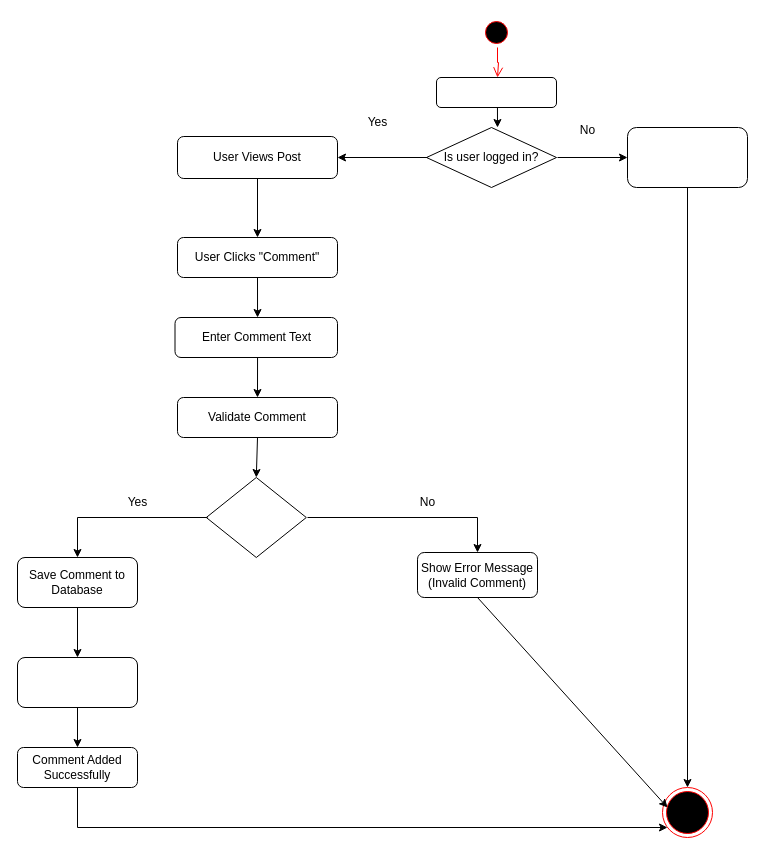
Some shapes in this 765 by 855 pixel diagram are drawn without their labels. The centre of each missing label's shape, as x and y in pixels:
"Display Comment under Post" goes at point (77, 682).
"Is Comment Valid?" goes at point (255, 517).
"Log in to system" goes at point (496, 92).
"show login error" goes at point (687, 157).
